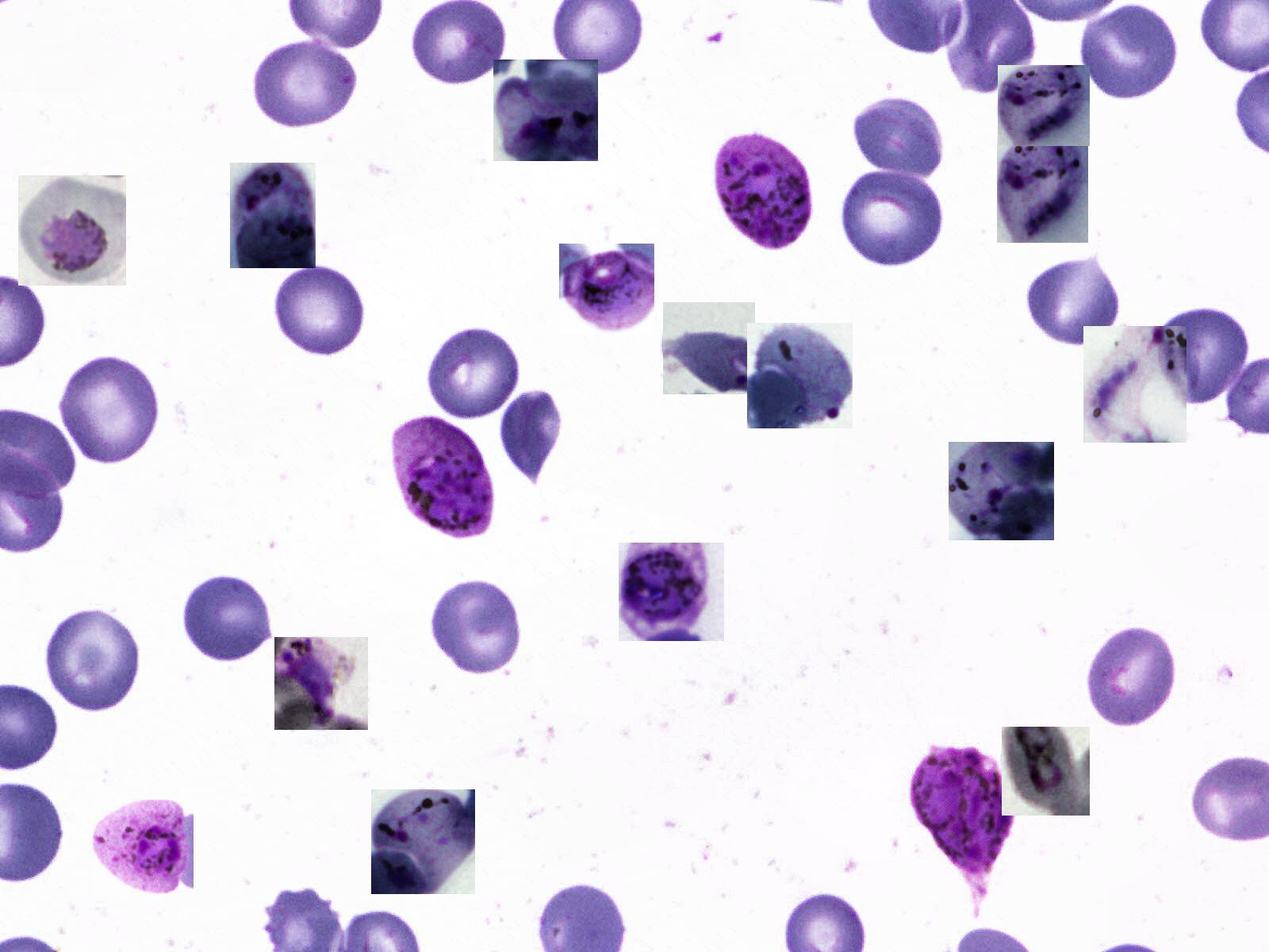Infected: (909, 745, 1012, 876), (393, 412, 494, 541), (709, 134, 814, 251), (1083, 326, 1187, 443), (18, 175, 126, 286), (747, 323, 853, 428), (371, 789, 475, 894), (493, 59, 598, 161), (619, 543, 724, 641), (949, 442, 1054, 540), (997, 136, 1088, 243), (93, 800, 194, 896), (230, 163, 316, 268), (274, 637, 368, 730), (559, 244, 654, 335), (663, 303, 755, 395), (1002, 727, 1090, 816), (998, 65, 1090, 146)
Uninfected: (41, 606, 144, 716), (58, 355, 161, 463), (837, 169, 946, 269), (1078, 3, 1183, 104), (1148, 308, 1252, 409), (425, 322, 525, 419), (252, 36, 355, 129), (1025, 254, 1121, 347), (1086, 628, 1176, 727), (431, 579, 521, 674), (274, 267, 364, 361), (848, 96, 945, 183), (410, 0, 506, 86), (182, 577, 274, 665), (497, 389, 568, 492)
